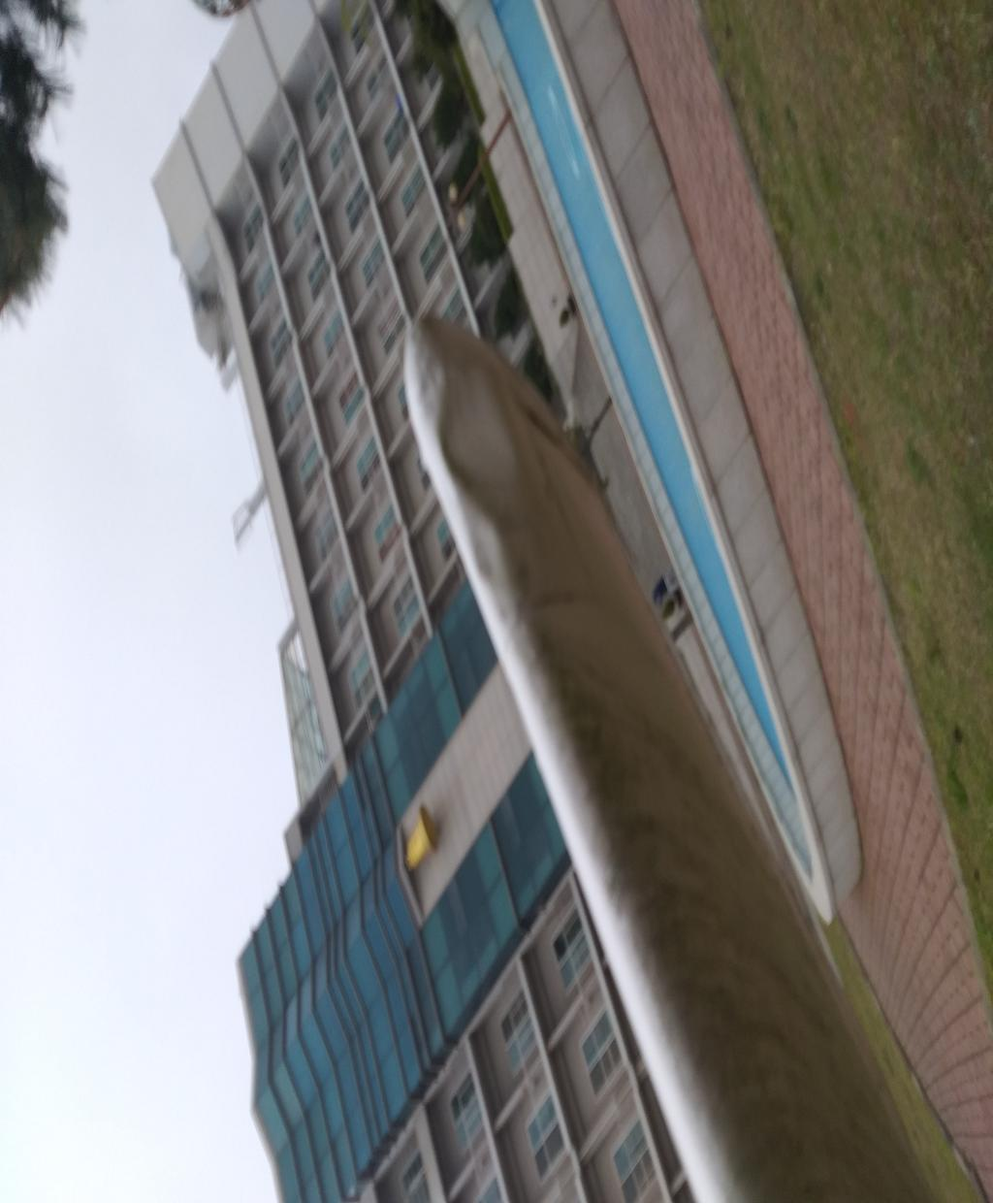corrosion: (316, 934, 402, 1139), (283, 1008, 324, 1087)
